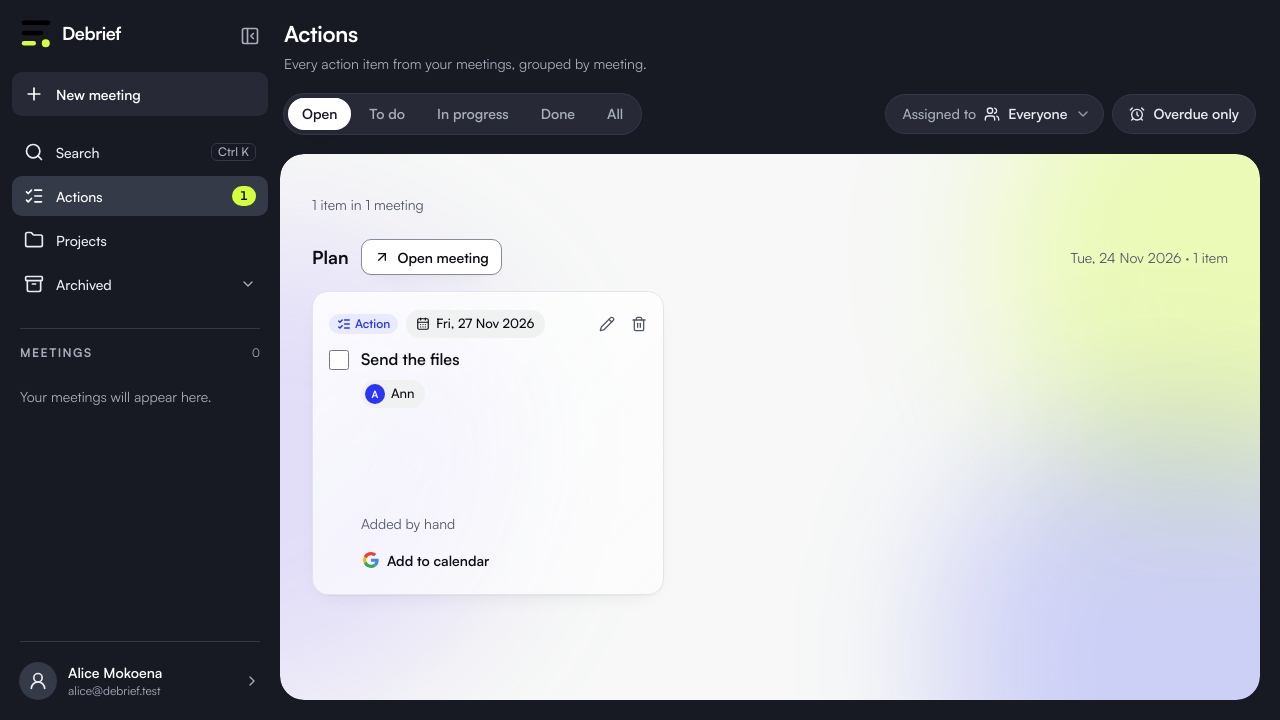
Test: "Add to calendar" on an action item › offers to reconnect when Google access was revoked
Click the button with aria-label "in Google Calendar" at (426, 560), box [351,542,501,578]
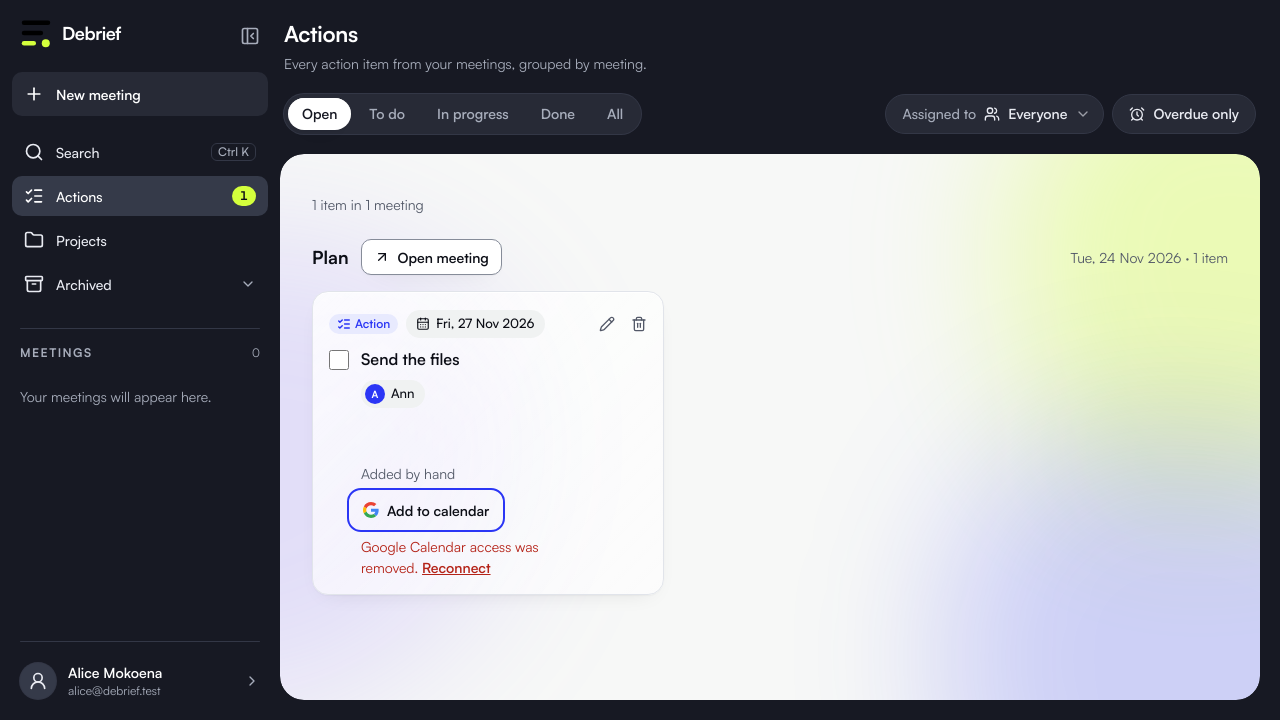
Expected: the message "Google Calendar access was removed. Reconnect" is shown, [361,538,539,576]
